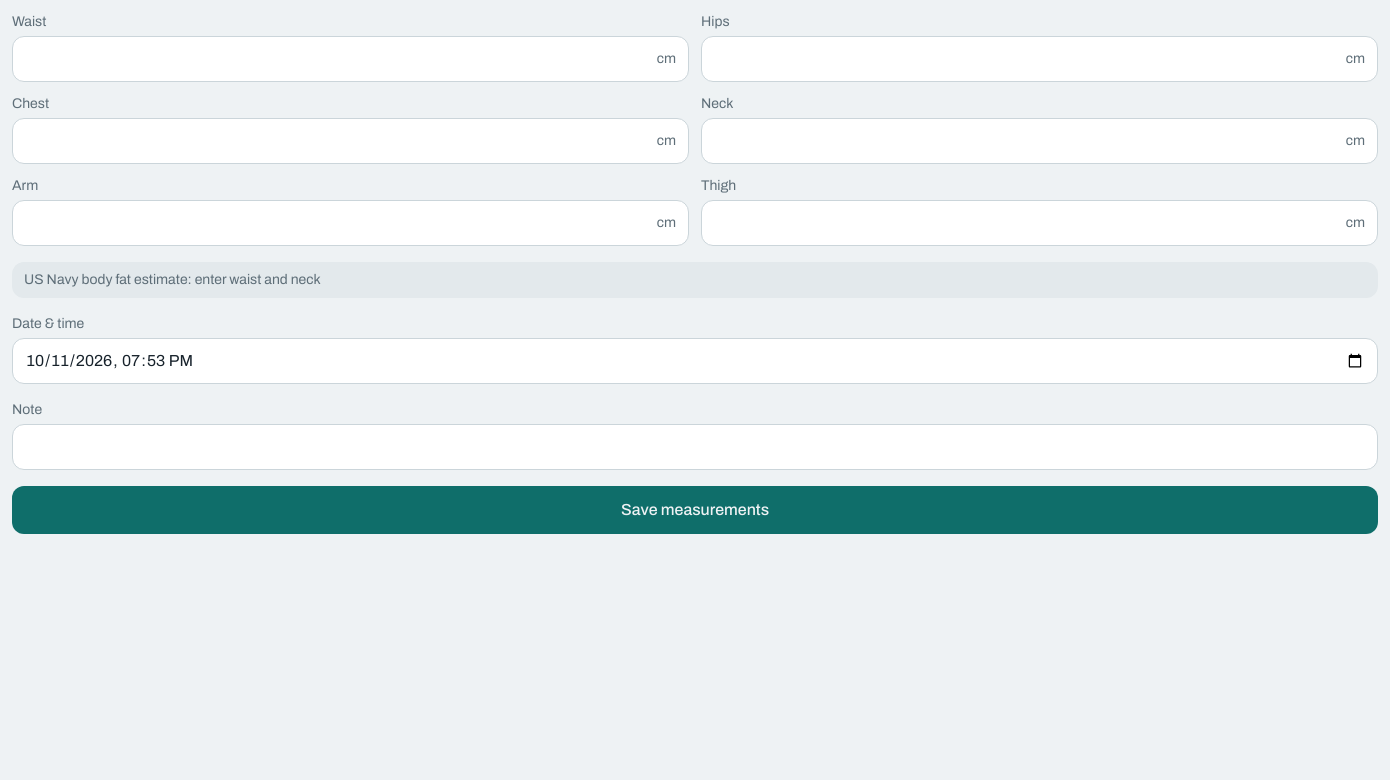
Test: MeasurementForm › needs at least one measurement
The width and height of the screenshot is (1390, 780).
What coordinates should you click on to do the following:
click the button "Save measurements"
I would click on:
 (695, 510)
Its box is [12, 486, 1378, 534].
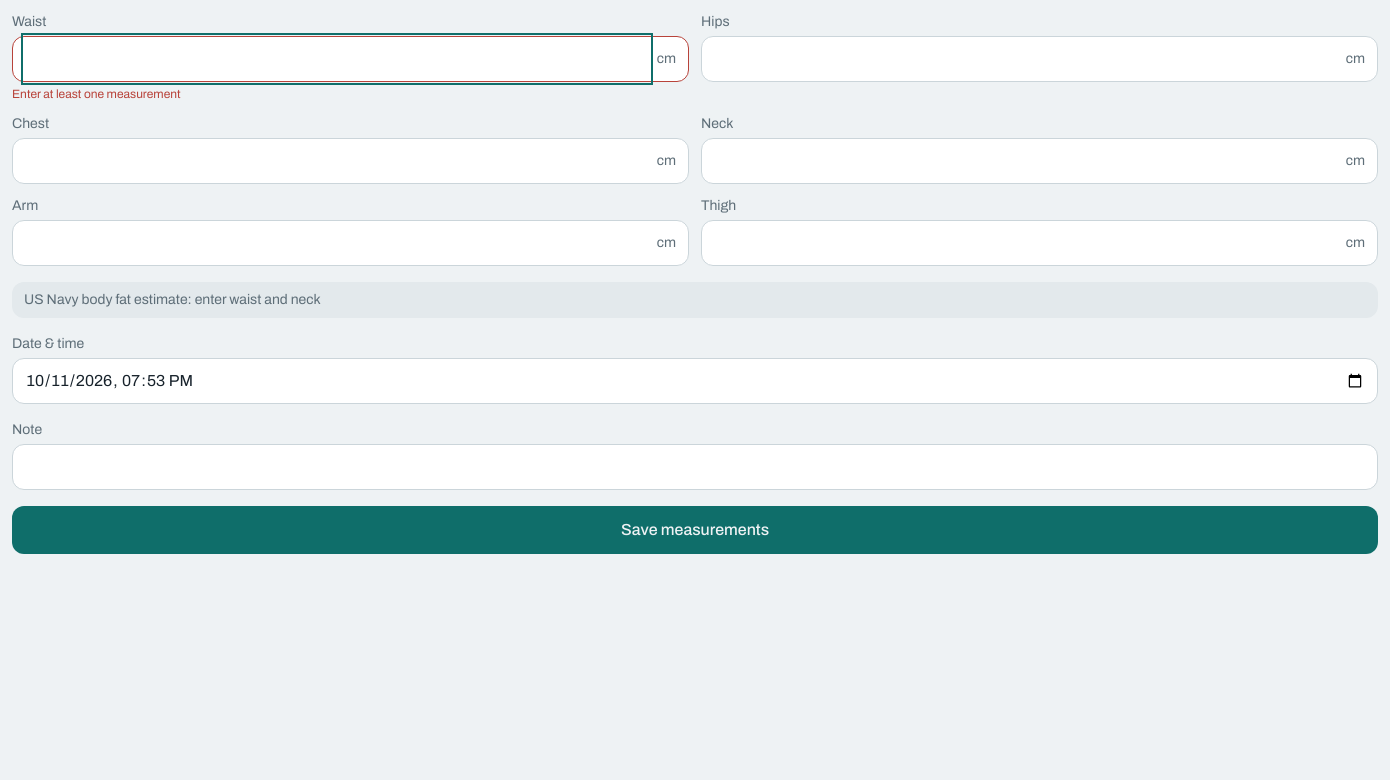
Expected: the text "Enter at least one measurement" is shown, [12, 87, 180, 101]
